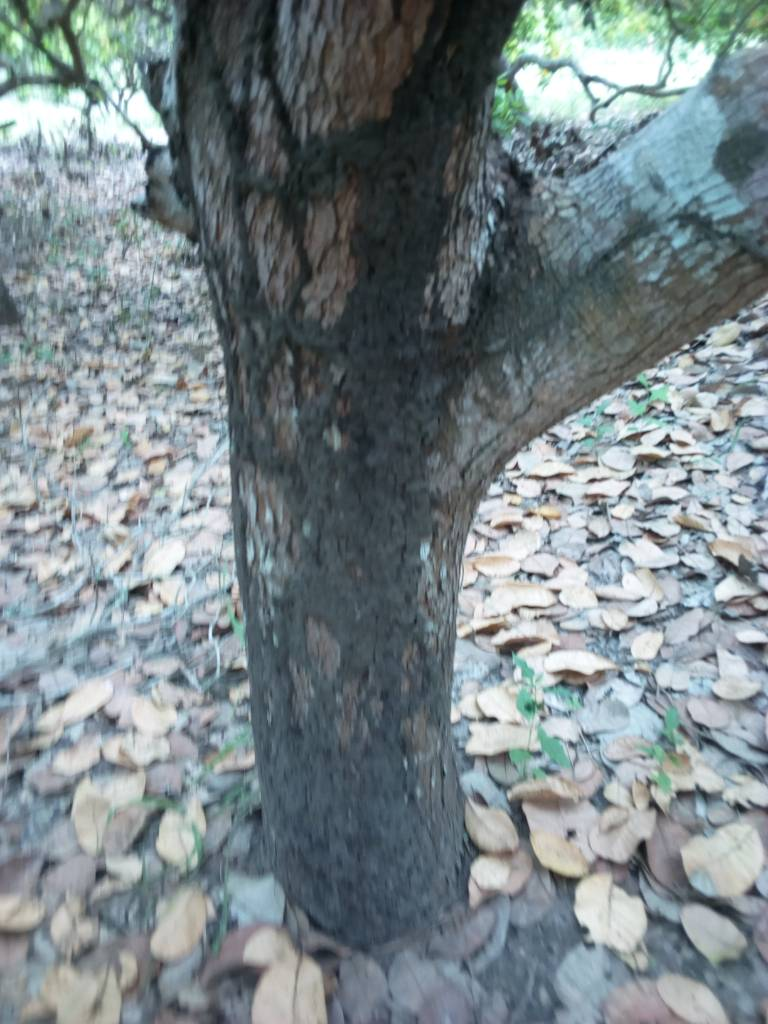Termites: (293, 67, 457, 921)
